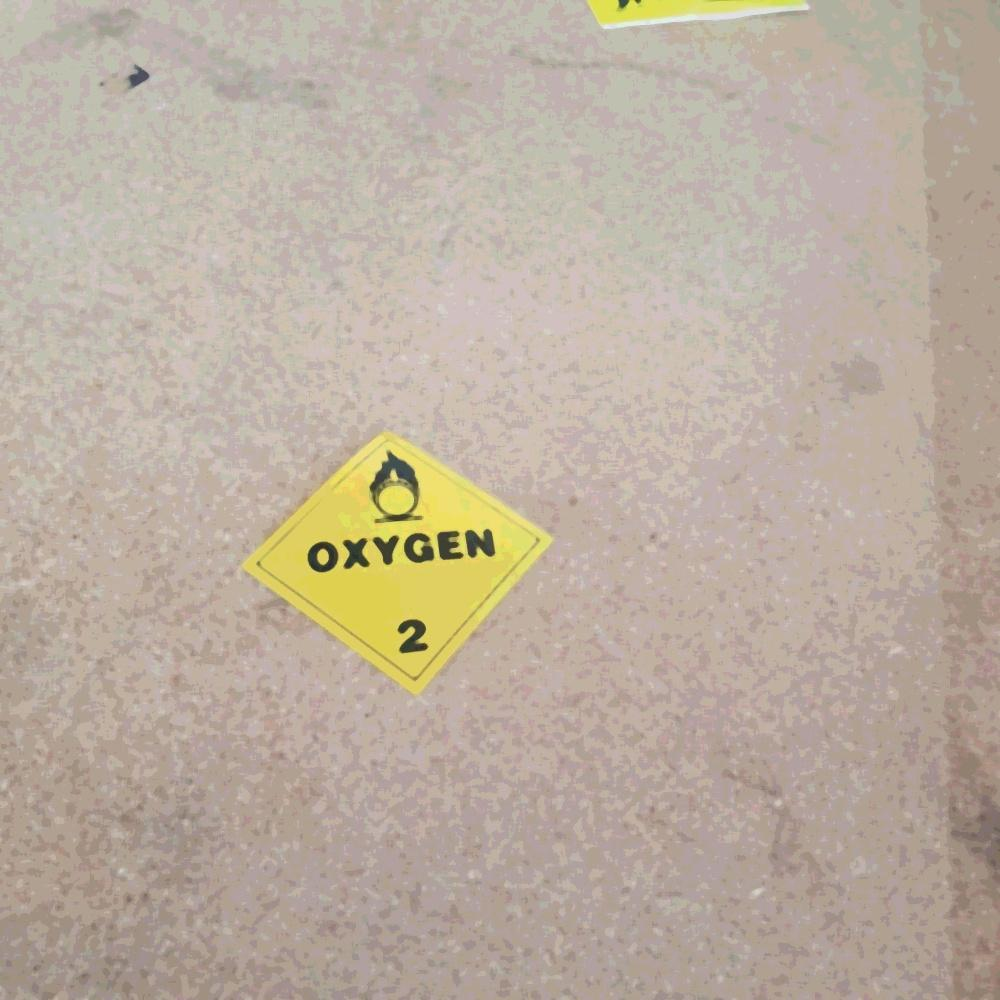oxidizer: (236, 431, 555, 700)
